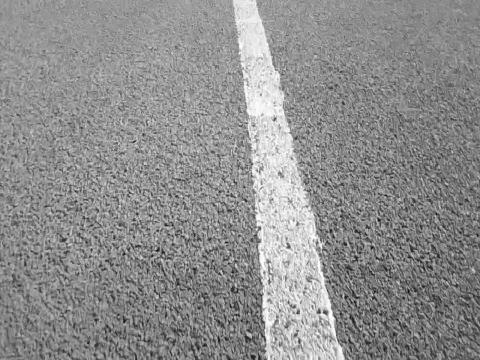Lines: (231, 0, 346, 360)
